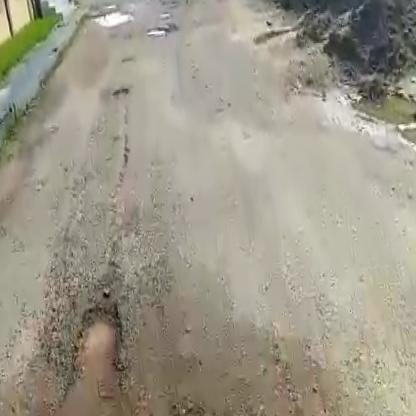pothole: (59, 297, 132, 394), (87, 7, 135, 29)
